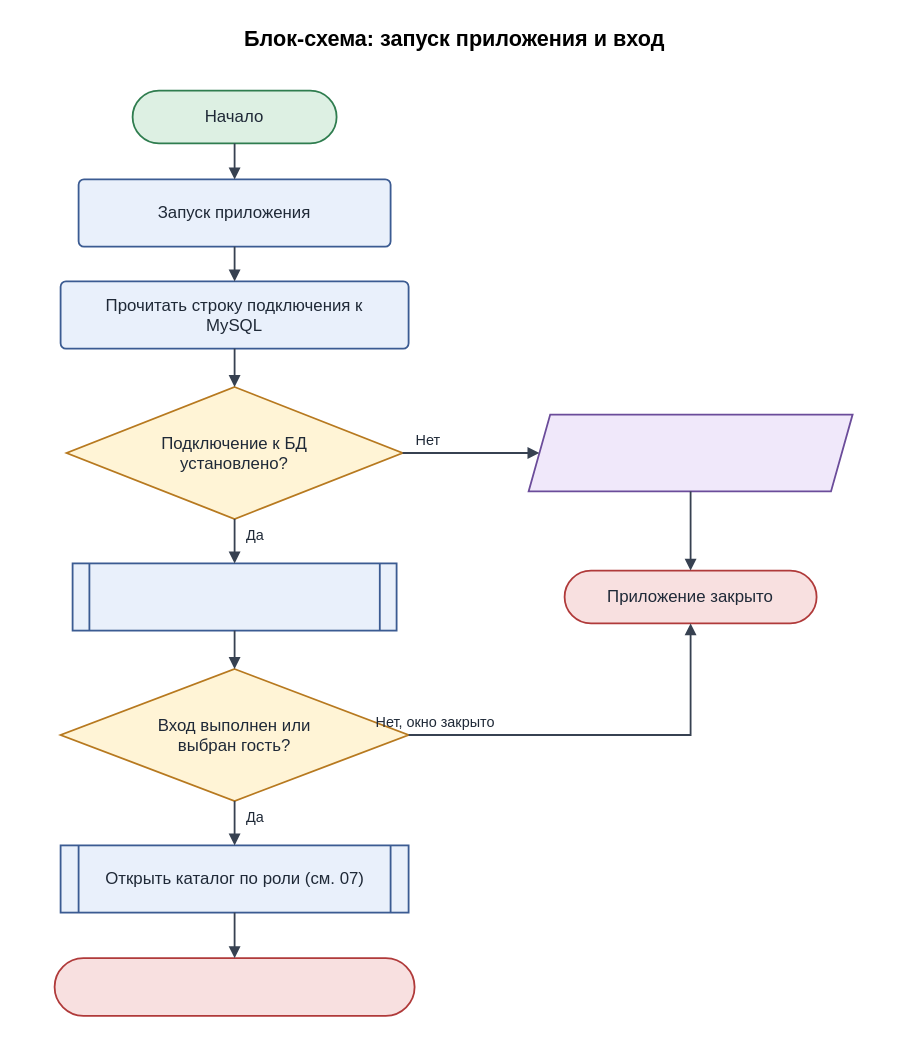
The diagram is 906 pixels wide and 1037 high, and some of its shapes have lost their labels. The shapes that lost their labels are listed below. From the top down, each one's centre as x and y in pixels, then its label:
the point at 690,452: Сообщение: нет связи с БД (см. 12)
the point at 234,596: Показать окно входа (см. 08)
the point at 234,986: Каталог открыт, ожидание событий (см. 06)
